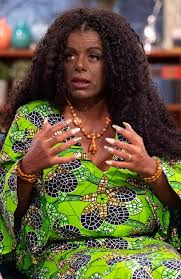black_female: (20, 1, 153, 136)
